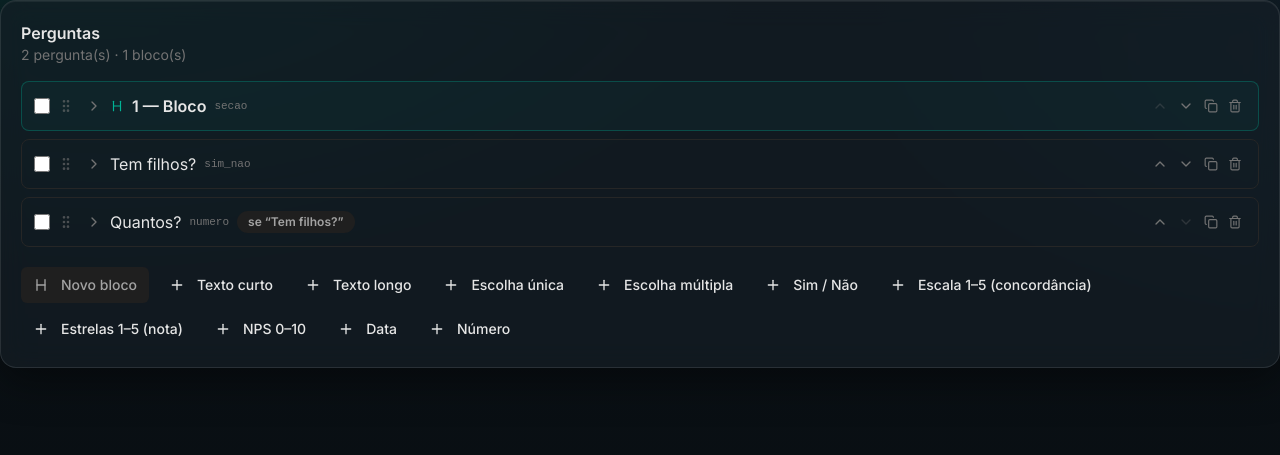
Test: construtor · protege as condicionais › ⚠️ reordenar LIMPA a seleção — índice guardado apontaria para outra pergunta
Click the checkbox named "Selecionar “1 — Bloco”": x=42, y=106 [34,98,50,114]
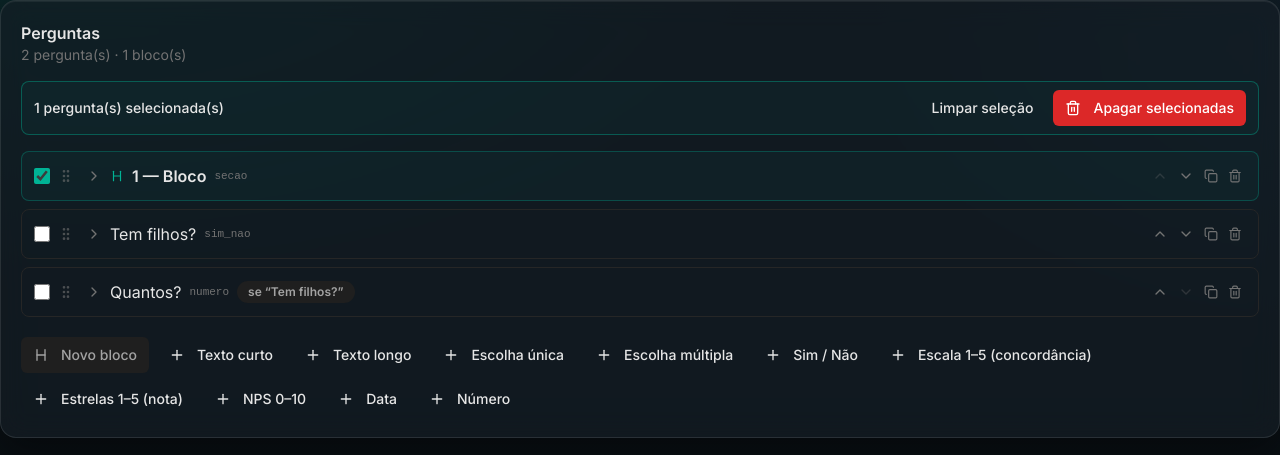
Result: the text "1 pergunta(s) selecionada(s)" is shown at [34,98,224,118]
Click the 1st button titled "Descer": x=1186, y=176 [1174,164,1198,188]
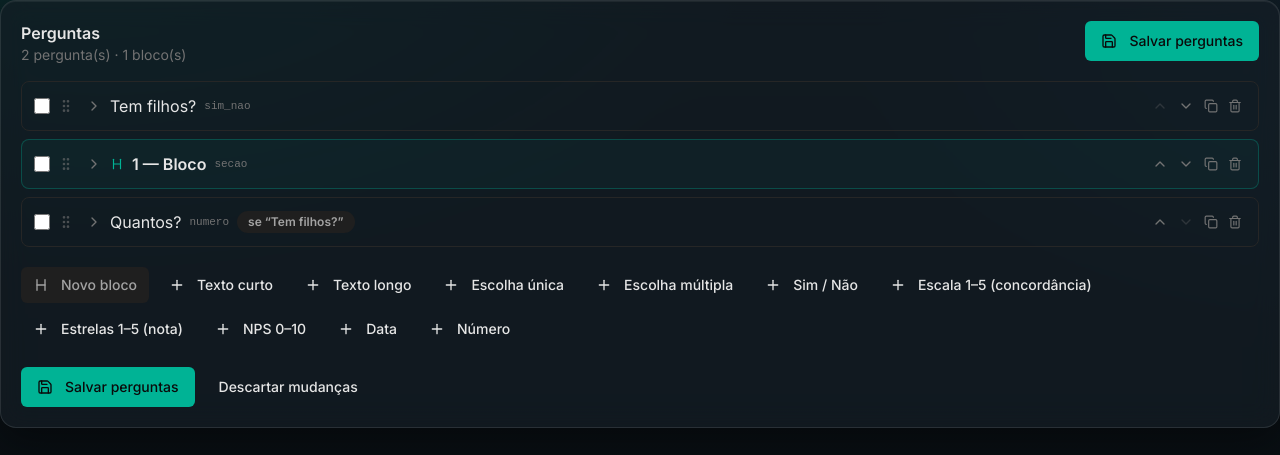
Result: the text "selecionada" is gone
